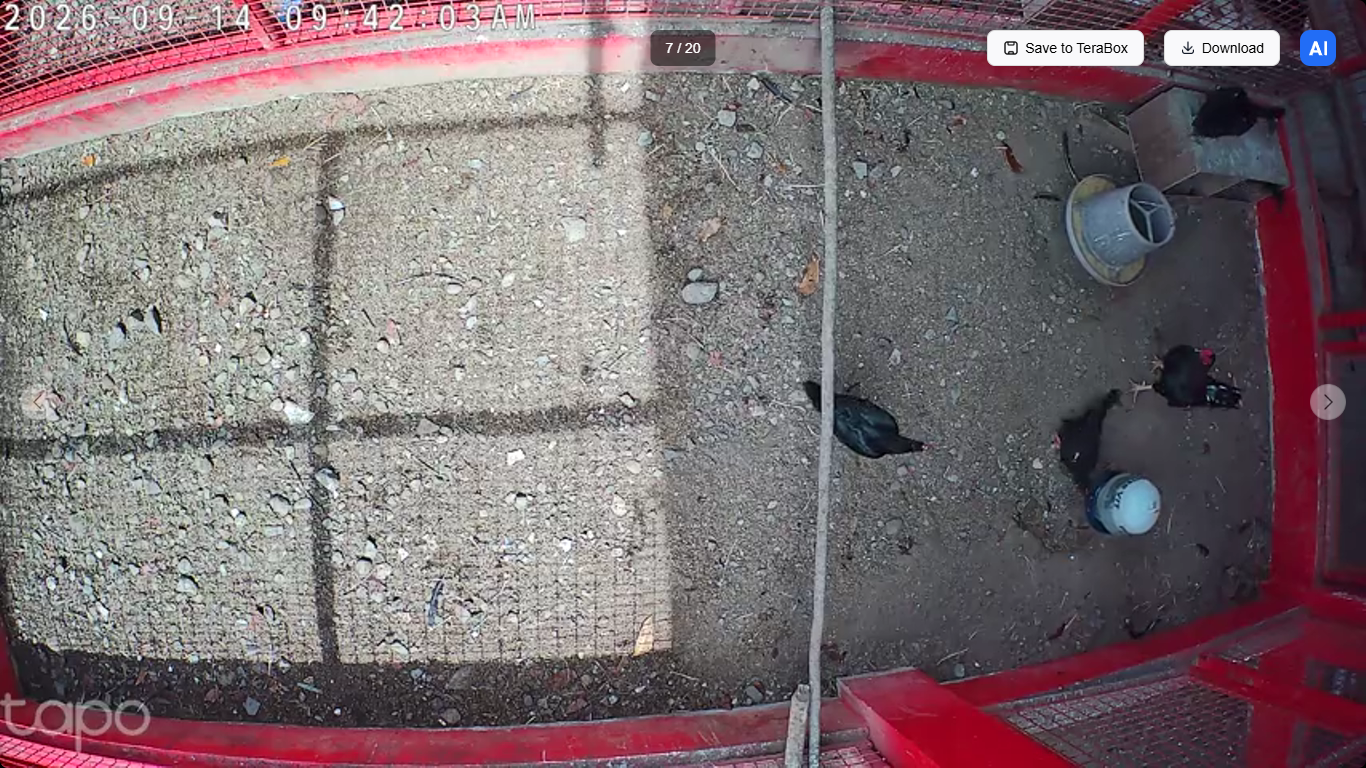Chicken: (797, 377, 934, 459)
Rooster: (1124, 341, 1244, 416)
